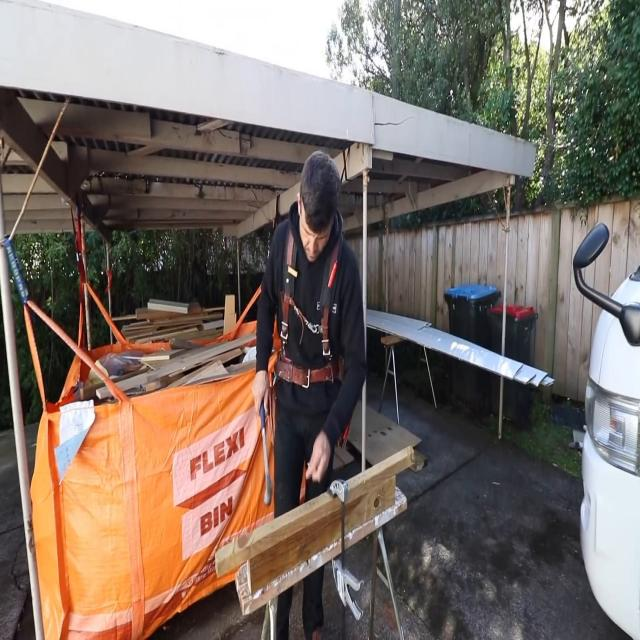hammer: (260, 402, 272, 504)
